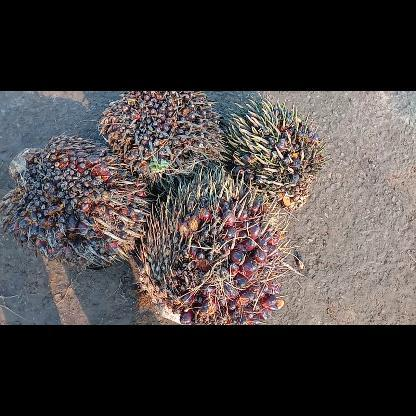TBS abnormal: (0, 131, 153, 271), (94, 91, 232, 195), (222, 99, 332, 211)
TBS masak: (132, 164, 286, 324)
